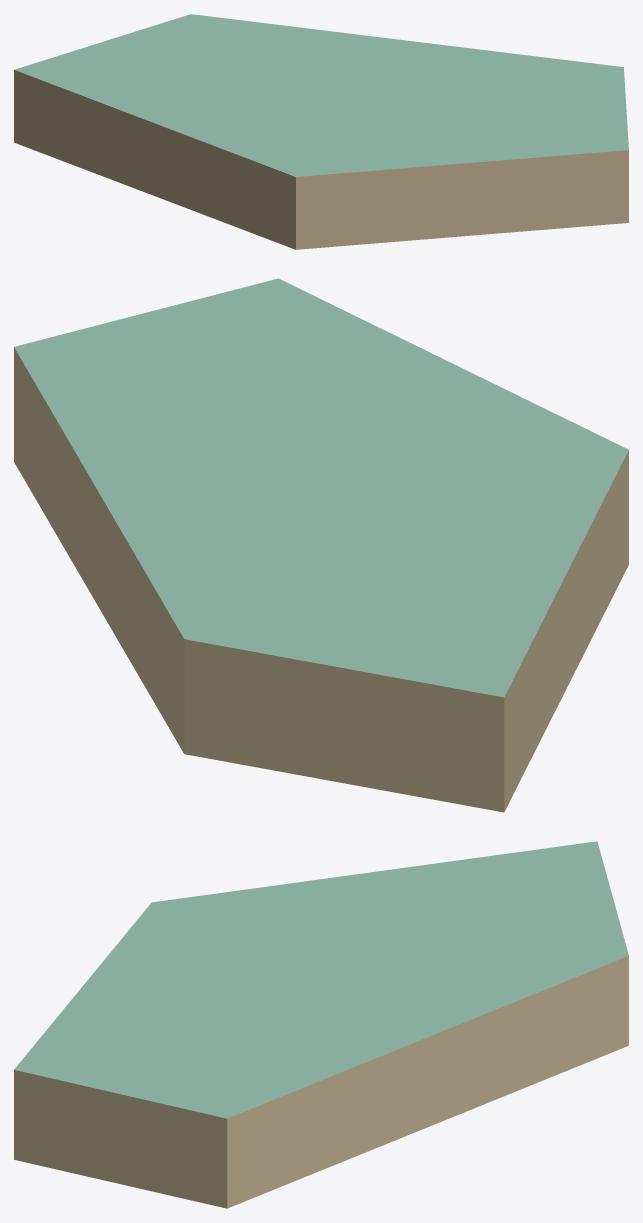
The model's file is naturePack_012.gltf.
The picture shows the model from 3 angles, top to bottom: view 1: azimuth 30°, elevation 25°; view 2: azimuth 150°, elevation 25°; view 3: azimuth 270°, elevation 25°; orthographic projection. The views are drawn at different scales.
Visible parts, largest first — view 1: Mesh1 Group1 Model; view 2: Mesh1 Group1 Model; view 3: Mesh1 Group1 Model.
Part boxes in pixels (x1=…): Mesh1 Group1 Model: x1=14, y1=14, x2=628, y2=249; Mesh1 Group1 Model: x1=14, y1=278, x2=628, y2=812; Mesh1 Group1 Model: x1=14, y1=841, x2=628, y2=1208.
Size of the model in its own units: 1.19 by 0.18 by 1.12.
